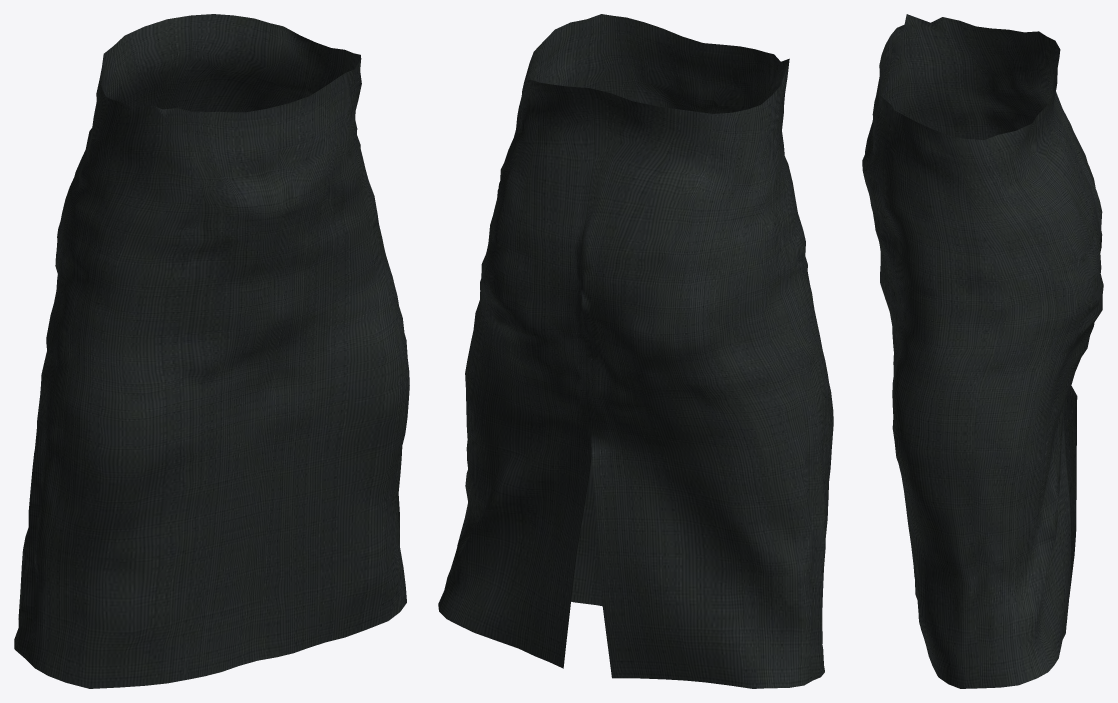
The model's file is elvs-pencil-skirt.glb.
The picture shows the model from 3 angles, left to right: view 1: azimuth 30°, elevation 25°; view 2: azimuth 150°, elevation 25°; view 3: azimuth 270°, elevation 25°; orthographic projection. The views are drawn at different scales.
Parts seen in each view (by area): view 1: Human.elvs_pencil_skirt; view 2: Human.elvs_pencil_skirt; view 3: Human.elvs_pencil_skirt.
Boxes of the visible parts, box(x1,y1,x2,y2) form: Human.elvs_pencil_skirt: box(14, 14, 409, 688); Human.elvs_pencil_skirt: box(438, 14, 833, 688); Human.elvs_pencil_skirt: box(862, 14, 1103, 688).
Size of the model in its own units: 0.4631 by 0.7052 by 0.2806.
Materials: 1 (1 with a texture image).
